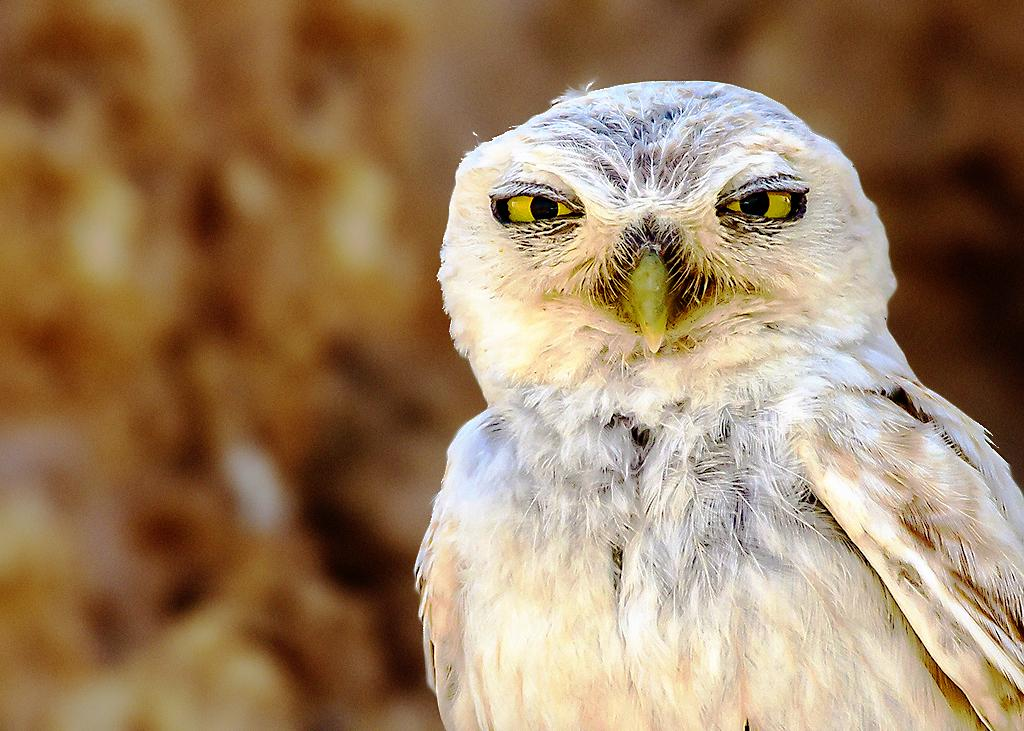Owl: (416, 79, 1024, 730)
